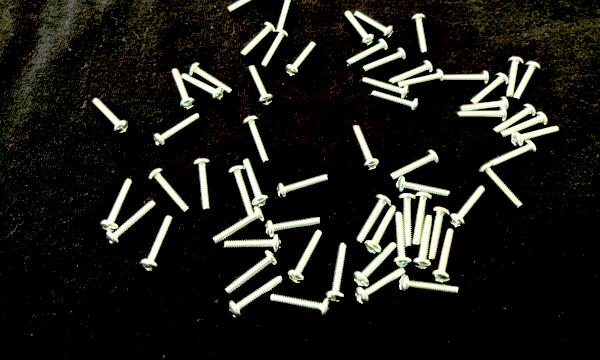longscrew: (228, 275, 286, 320), (224, 249, 279, 295), (105, 200, 157, 247), (478, 162, 525, 210), (139, 215, 178, 272), (210, 206, 266, 245), (353, 241, 398, 288), (287, 229, 324, 285), (354, 268, 408, 306), (149, 168, 191, 214), (356, 194, 393, 246), (99, 177, 133, 233), (152, 112, 200, 149), (364, 204, 398, 256), (449, 185, 487, 229), (390, 149, 440, 182), (270, 293, 331, 320), (431, 228, 459, 283), (276, 173, 330, 201), (189, 62, 233, 96), (399, 274, 461, 298), (241, 158, 270, 209), (488, 140, 538, 169), (491, 103, 537, 134), (228, 165, 255, 217), (325, 242, 348, 303), (395, 175, 451, 200), (351, 124, 380, 172), (242, 115, 270, 164), (499, 111, 549, 138), (470, 72, 510, 105), (240, 21, 276, 57), (181, 73, 224, 103), (92, 98, 127, 134), (223, 233, 283, 254), (265, 217, 322, 239), (392, 210, 413, 269), (371, 89, 420, 114), (412, 212, 433, 270), (346, 38, 389, 66), (260, 29, 290, 69), (354, 10, 395, 39), (286, 41, 319, 77), (429, 206, 451, 260), (344, 10, 376, 47), (362, 76, 410, 100), (362, 47, 408, 72), (248, 64, 274, 107), (513, 61, 541, 100), (389, 60, 434, 84), (511, 126, 560, 148), (171, 67, 196, 110), (398, 192, 417, 248), (413, 191, 432, 247), (193, 158, 213, 211), (398, 69, 445, 89), (456, 106, 508, 123), (505, 56, 524, 99), (442, 70, 490, 87), (460, 96, 510, 112), (412, 13, 430, 56), (275, 0, 296, 34), (227, 0, 268, 14)
